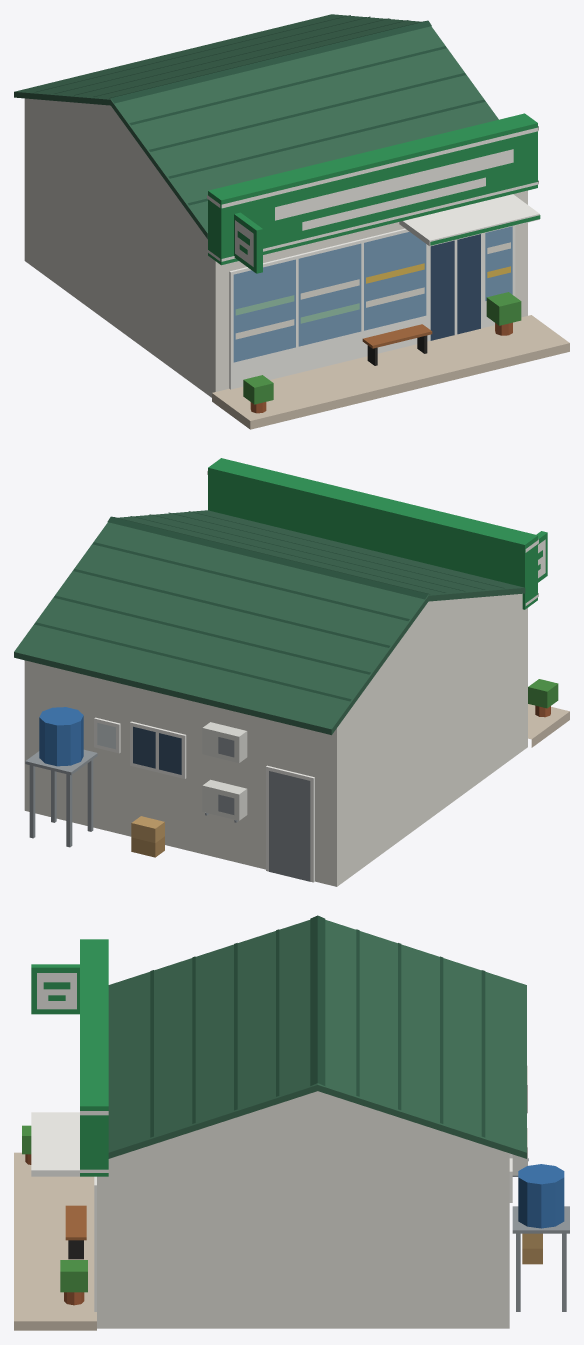
The model's file is toko_02.glb.
3 views of the same model, one above another, from view 1: azimuth 30°, elevation 25°; view 2: azimuth 150°, elevation 25°; view 3: azimuth 270°, elevation 25° (orthographic). The views are drawn at different scales.
Parts seen in each view (by area): view 1: toko_02; view 2: toko_02; view 3: toko_02.
Part boxes in pixels (<box>): toko_02: <box>14,14,569,429</box>; toko_02: <box>14,458,569,886</box>; toko_02: <box>14,915,569,1330</box>.
Bounding box in the file's own units: 6.96 × 4.76 × 9.7.
